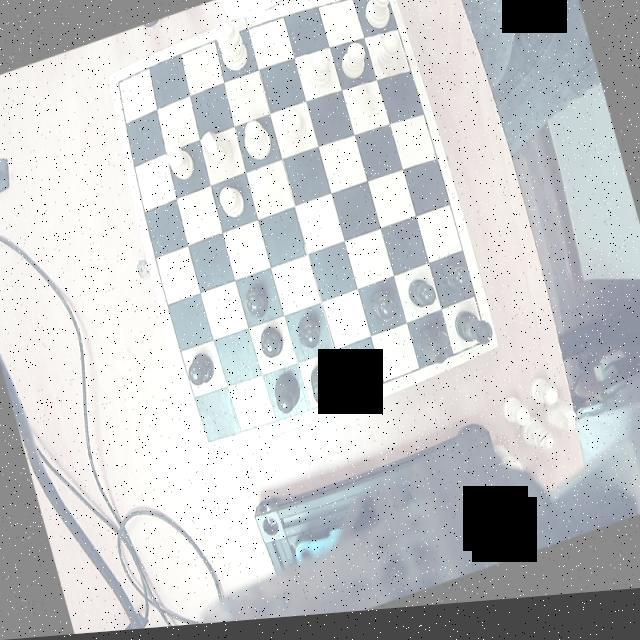chess-table-corners: (198, 426, 224, 457), (471, 335, 496, 364), (110, 69, 134, 95), (374, 0, 396, 16)
